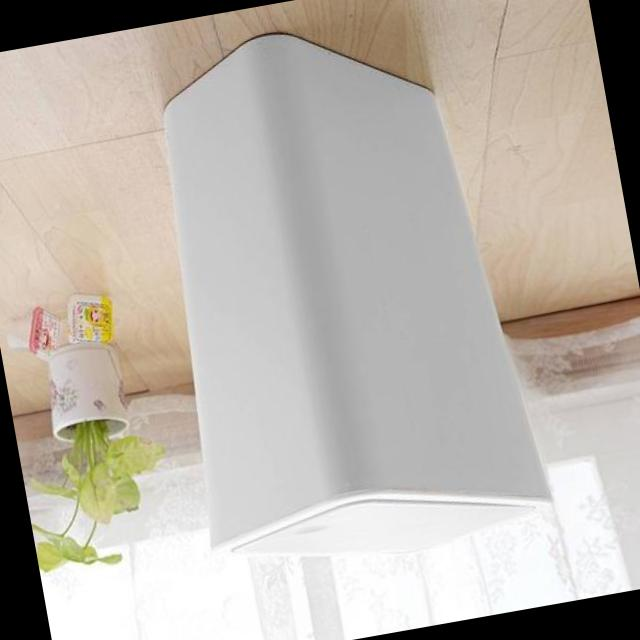dustbin: (118, 0, 560, 595)
